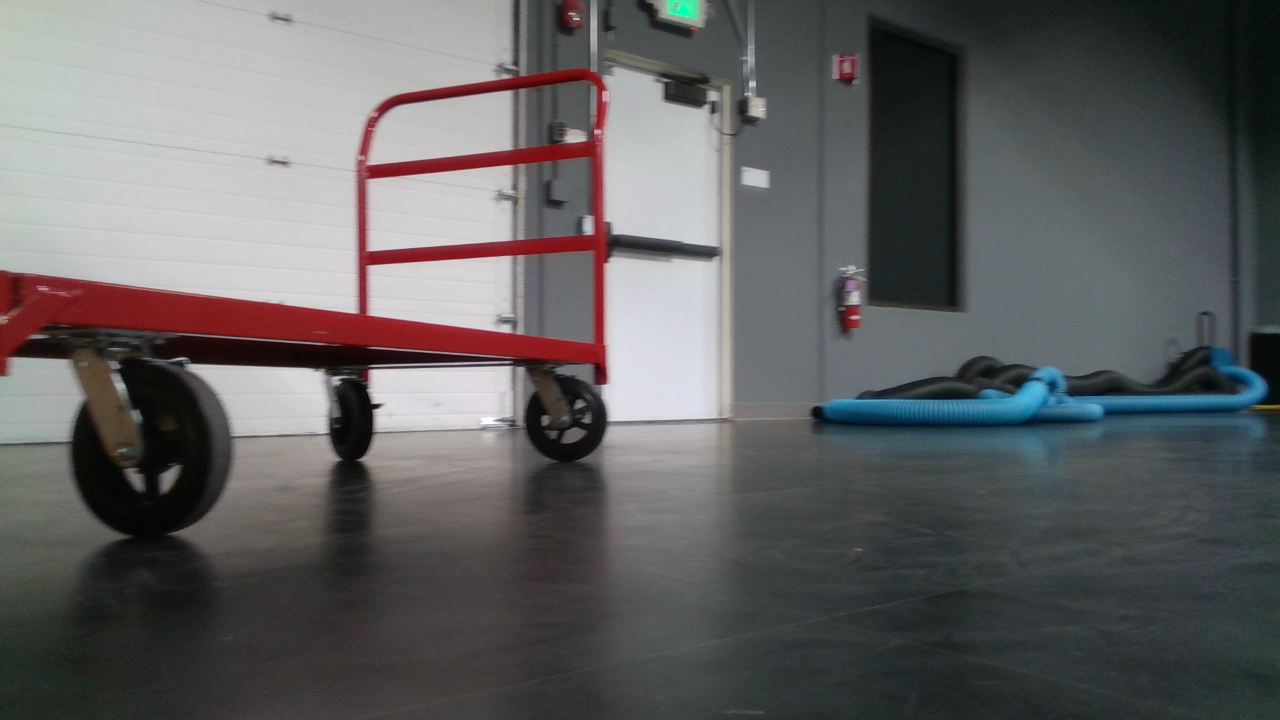Dolly: (0, 63, 627, 543)
Wheel: (65, 355, 236, 541), (523, 374, 609, 463), (325, 376, 376, 463)
